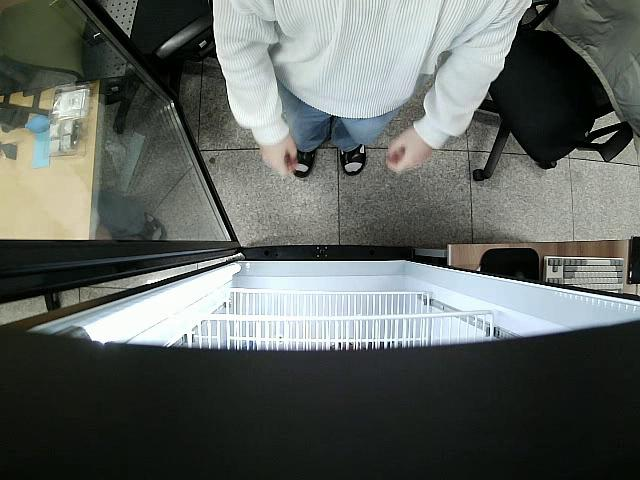00_hand: (384, 124, 432, 175), (260, 137, 300, 179)
